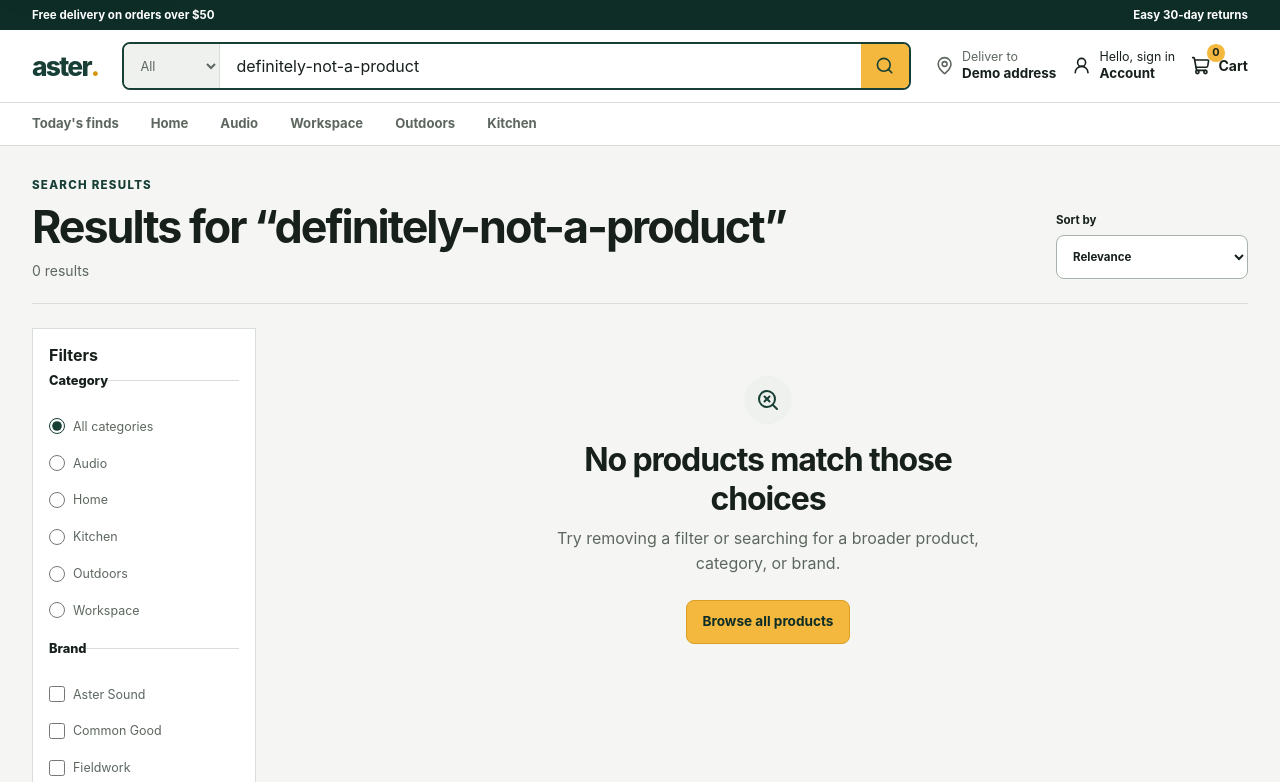
it: application foundation › offers a working escape from a no-results query
Click the button "Browse all products".
click(768, 622)  # box [686,600,850,644]
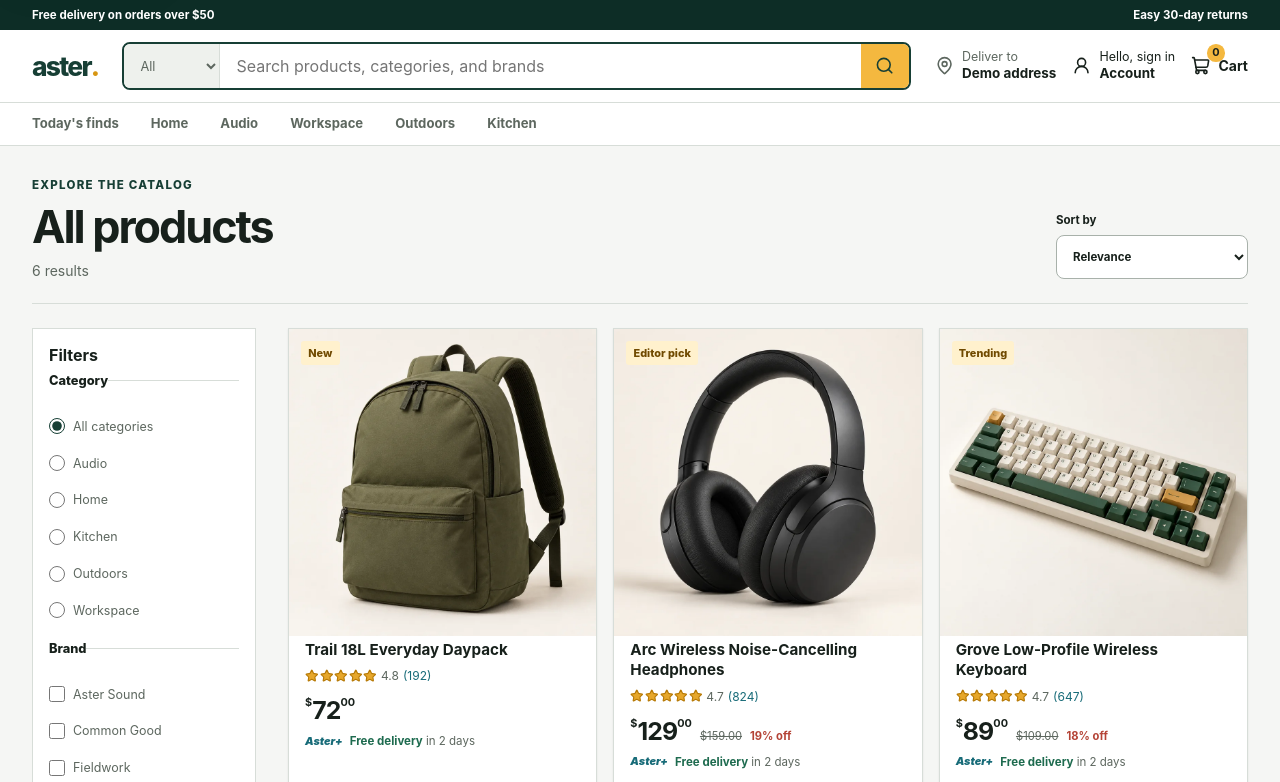
Result: the heading "All products" is shown at [32,200,273,254]
